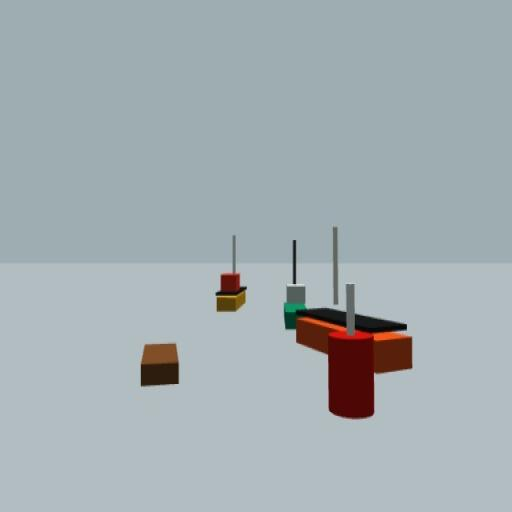debris_container: (140, 339, 182, 388)
fishing_boat: (282, 240, 307, 330)
floating_obstacle: (326, 284, 378, 422)
vessel: (295, 225, 413, 372), (216, 233, 248, 314)
